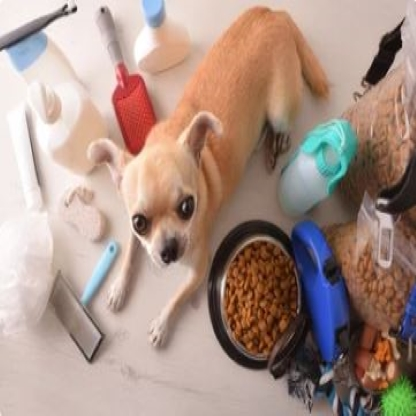chihuahua: (81, 3, 330, 348)
